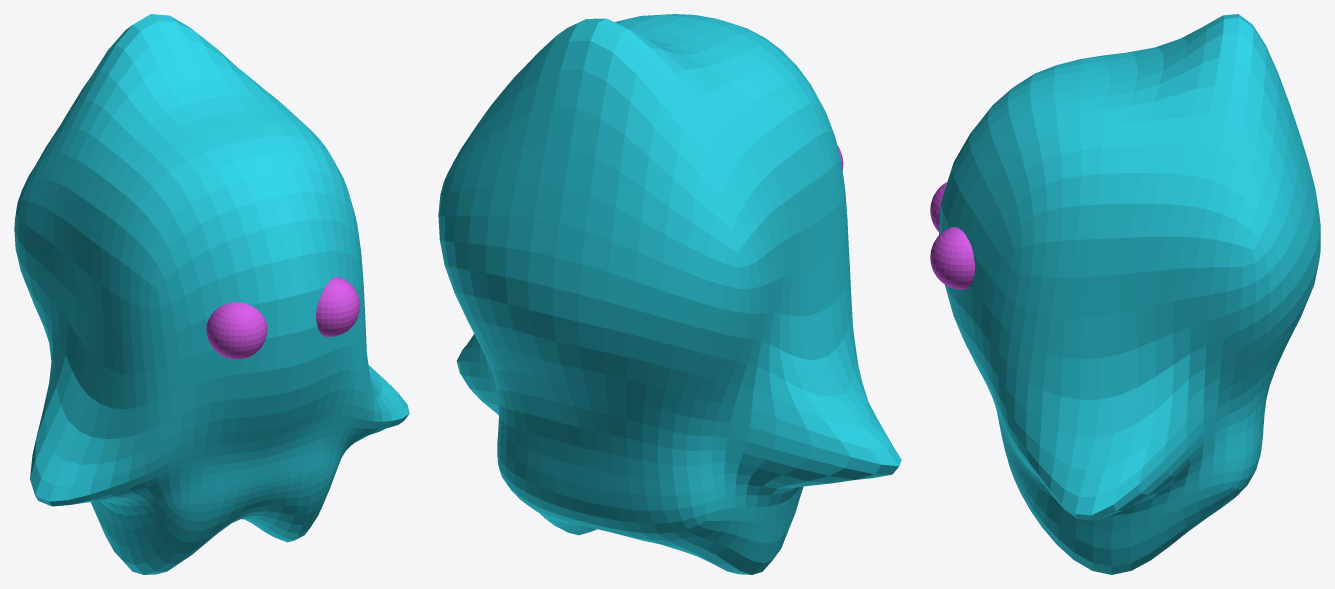
The model's file is next.fbx.
The picture shows the model from 3 angles, left to right: view 1: azimuth 30°, elevation 25°; view 2: azimuth 150°, elevation 25°; view 3: azimuth 270°, elevation 25°; orthographic projection. The views are drawn at different scales.
Parts seen in each view (by area): view 1: Sphere; view 2: Sphere; view 3: Sphere.
Part boxes in pixels (left/top/right/bottom): Sphere: left=14, top=14, right=409, bottom=574; Sphere: left=438, top=14, right=901, bottom=574; Sphere: left=930, top=14, right=1320, bottom=574.
Size of the model in its own units: 255 by 324 by 221.
